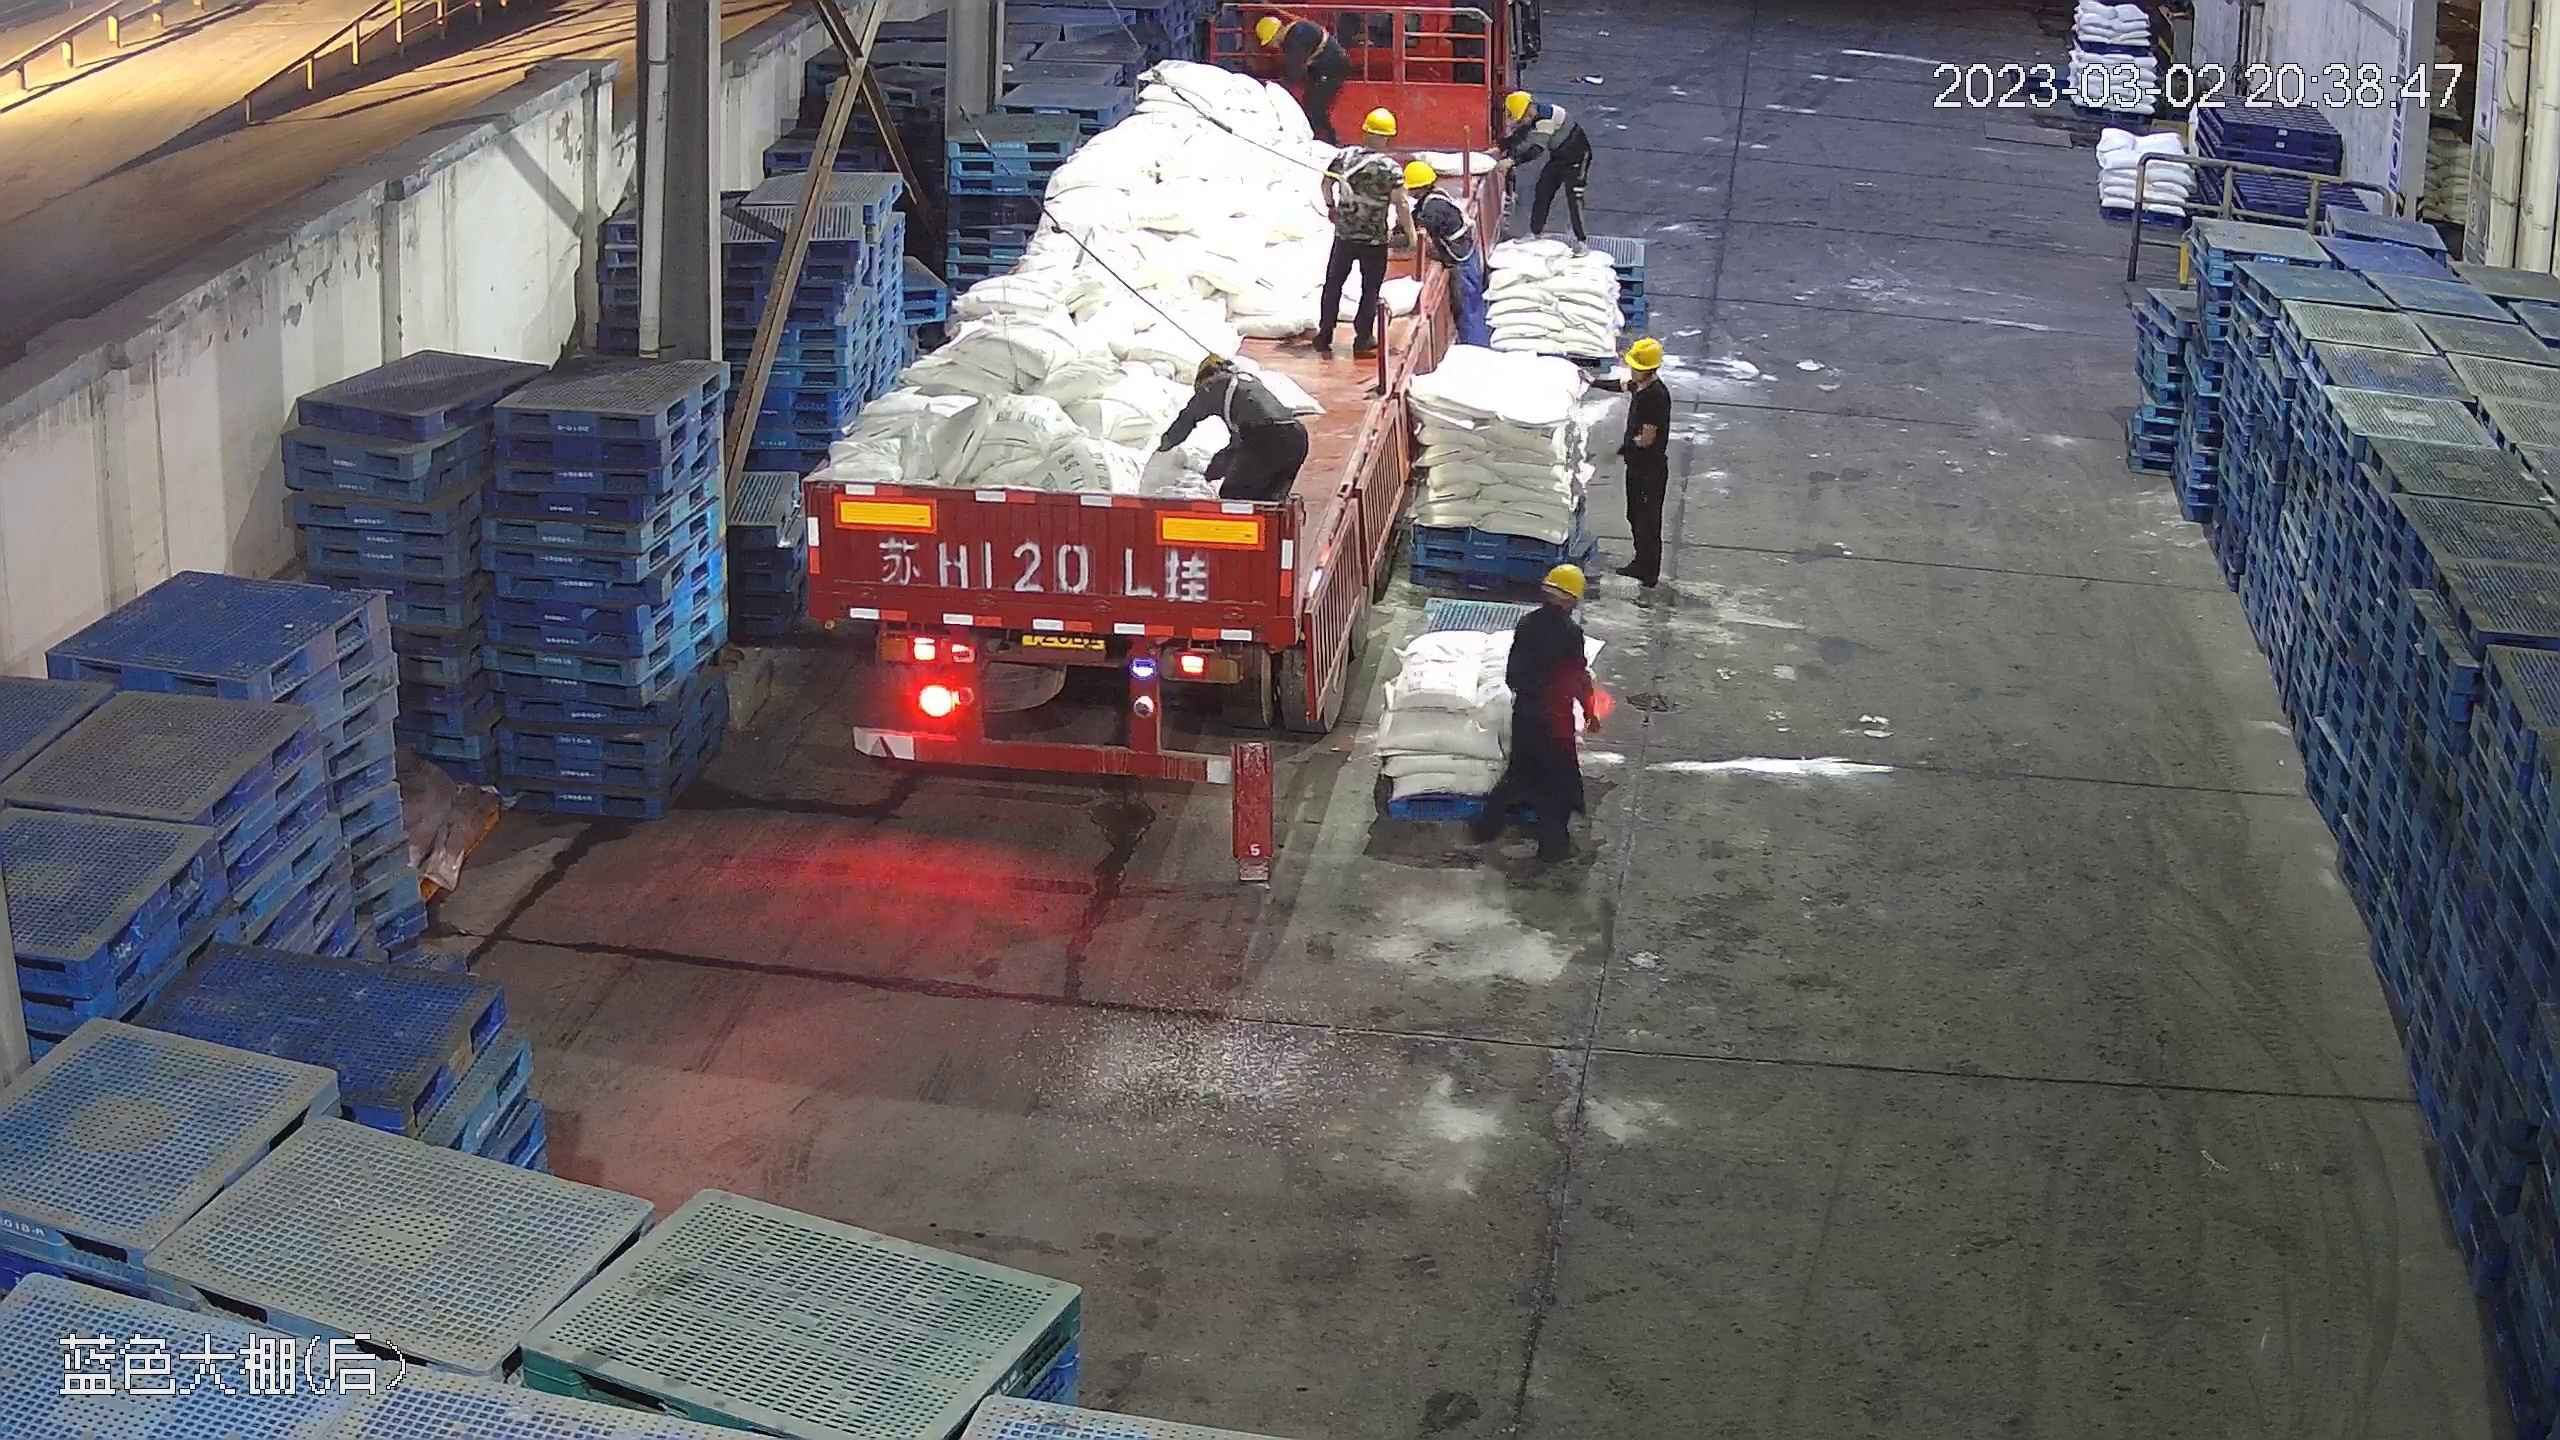belt: (1327, 146, 1389, 212), (1199, 367, 1254, 431), (1418, 187, 1472, 244), (1284, 17, 1337, 64)
head: (1510, 560, 1592, 662), (1605, 334, 1676, 419), (1328, 103, 1402, 179), (1399, 156, 1469, 227), (1501, 89, 1568, 141)
helmet: (1541, 561, 1587, 598), (1193, 352, 1231, 392), (1623, 334, 1666, 368), (1357, 105, 1399, 138), (1397, 156, 1439, 187), (1252, 14, 1282, 45), (1501, 89, 1529, 117)
people: (1460, 557, 1597, 876), (1306, 102, 1399, 365), (1158, 349, 1312, 504), (1594, 330, 1681, 600), (1395, 152, 1484, 371), (1496, 89, 1593, 249)
truck: (792, 16, 1417, 779)
